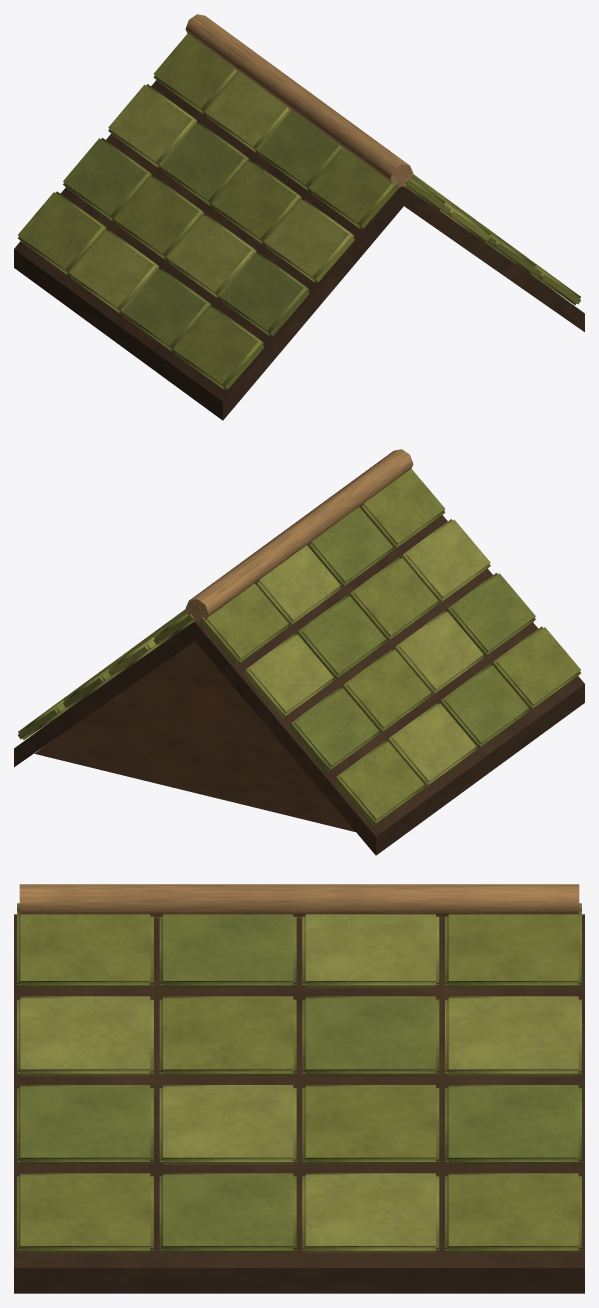
Rendered from roof-end-0.fbx.
The picture shows the model from 3 angles, top to bottom: view 1: azimuth 30°, elevation 25°; view 2: azimuth 150°, elevation 25°; view 3: azimuth 270°, elevation 25°; orthographic projection. The views are drawn at different scales.
Parts seen in each view (by area): view 1: roof-end-0__Geometry; view 2: roof-end-0__Geometry; view 3: roof-end-0__Geometry.
Part boxes in pixels (x1=…): roof-end-0__Geometry: x1=14, y1=14, x2=584, y2=420; roof-end-0__Geometry: x1=14, y1=449, x2=584, y2=855; roof-end-0__Geometry: x1=14, y1=884, x2=584, y2=1293.
Bounding box in the file's own units: 1 × 0.557 × 1.
1 material, 1 textured.
